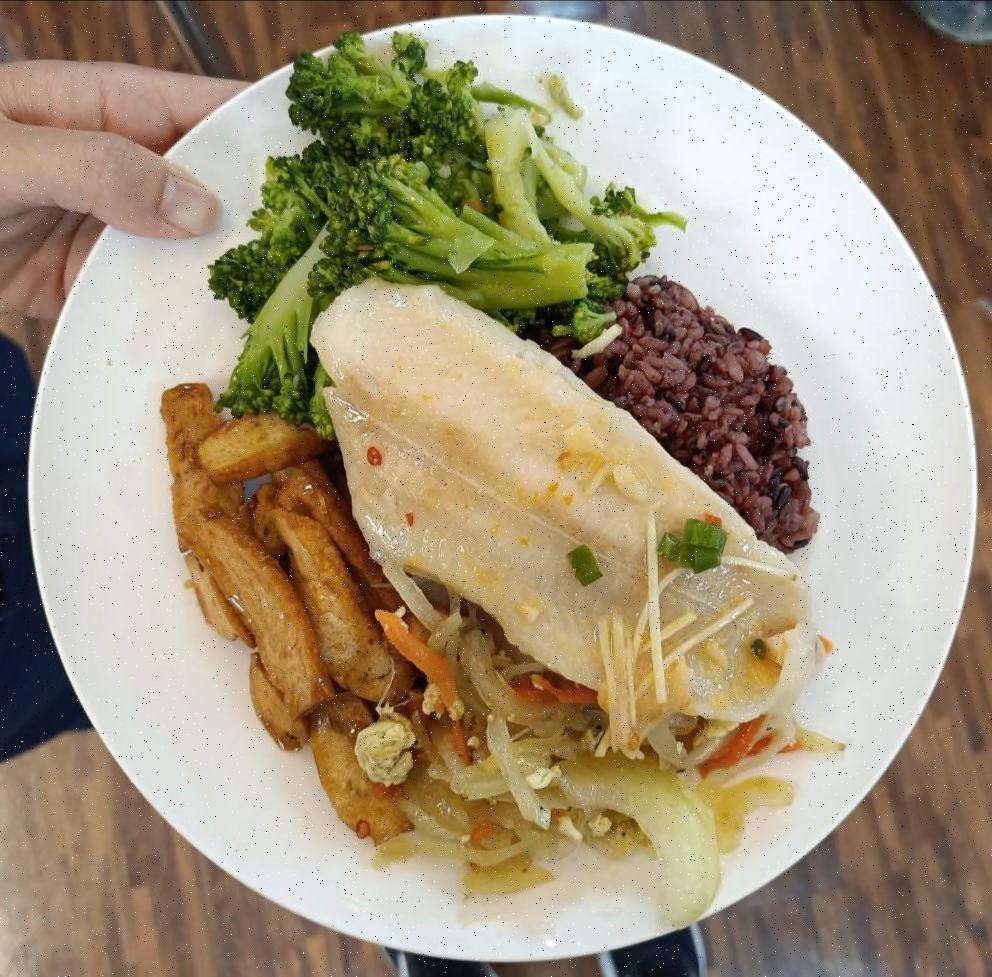plate: (12, 17, 972, 974)
purple rice: (463, 274, 828, 552)
side dish: (207, 31, 648, 416), (350, 592, 849, 917), (154, 366, 431, 845)
steamed fish fillet: (312, 266, 831, 729)
